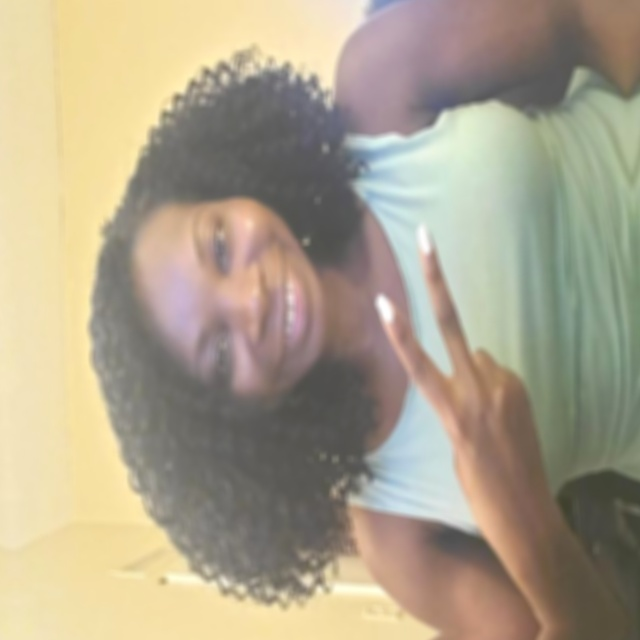Scissors: (368, 216, 559, 533)
